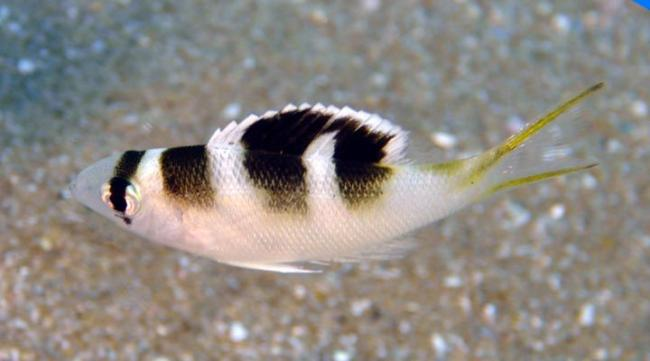fish: (68, 82, 606, 274)
